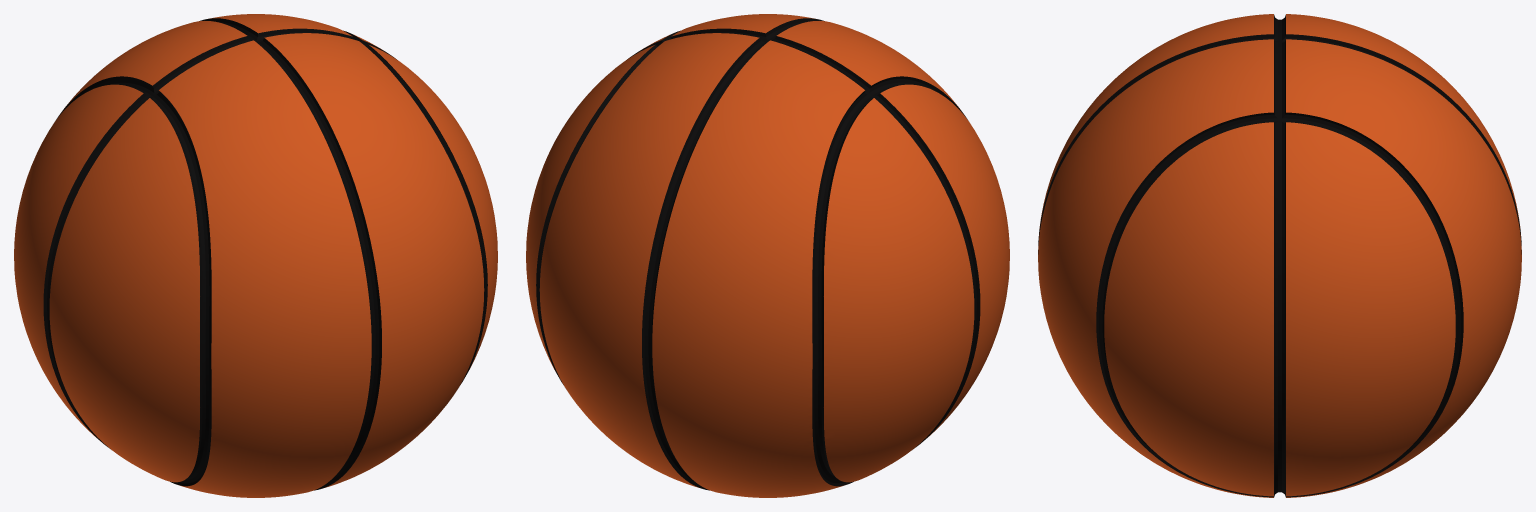
3 renders of one model, left to right at view 1: azimuth 30°, elevation 25°; view 2: azimuth 150°, elevation 25°; view 3: azimuth 270°, elevation 25°, orthographic.
Visible parts, largest first — view 1: MESH_Basketball; view 2: MESH_Basketball; view 3: MESH_Basketball.
Boxes of the visible parts, x1,y1,x2,y2 form: MESH_Basketball: (14, 14, 497, 497); MESH_Basketball: (526, 14, 1009, 497); MESH_Basketball: (1038, 14, 1521, 497).
Size of the model in its own units: 0.2385 by 0.2384 by 0.2385.
